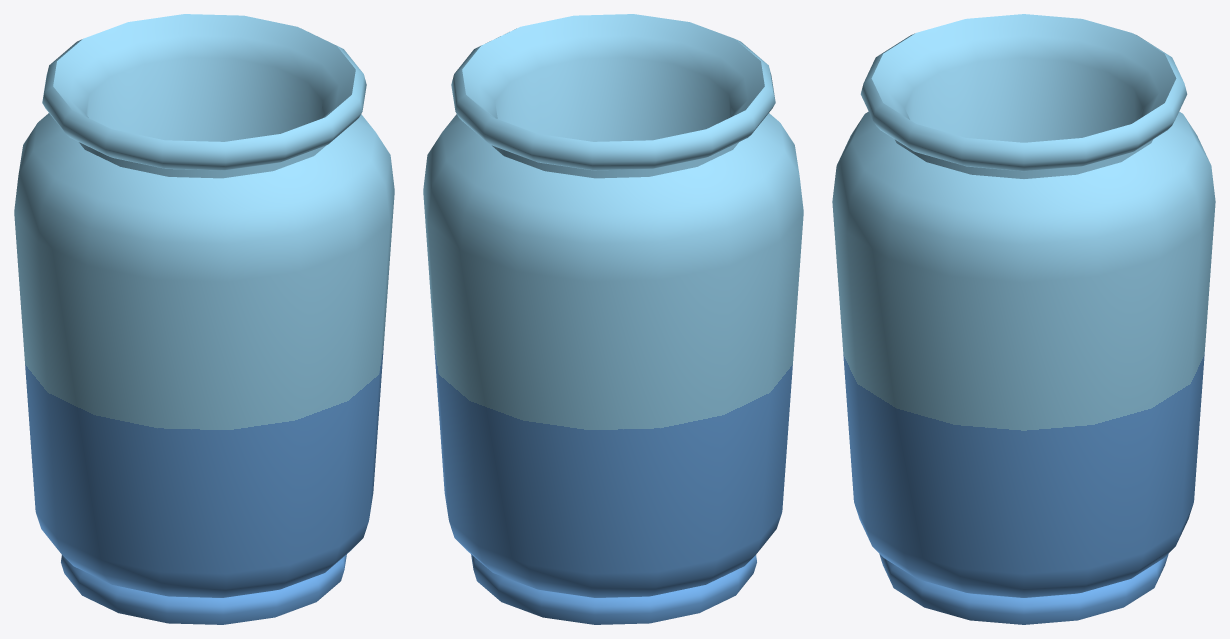
File: frasco.fbx
The picture shows the model from 3 angles, left to right: view 1: azimuth 30°, elevation 25°; view 2: azimuth 150°, elevation 25°; view 3: azimuth 270°, elevation 25°; orthographic projection.
Visible parts, largest first — view 1: frasco; view 2: frasco; view 3: frasco.
Boxes of the visible parts, x1,y1,x2,y2 form: frasco: (14,14,394,624); frasco: (423,14,803,624); frasco: (832,14,1215,624).
Size of the model in its own units: 26.71 by 37.45 by 26.71.
